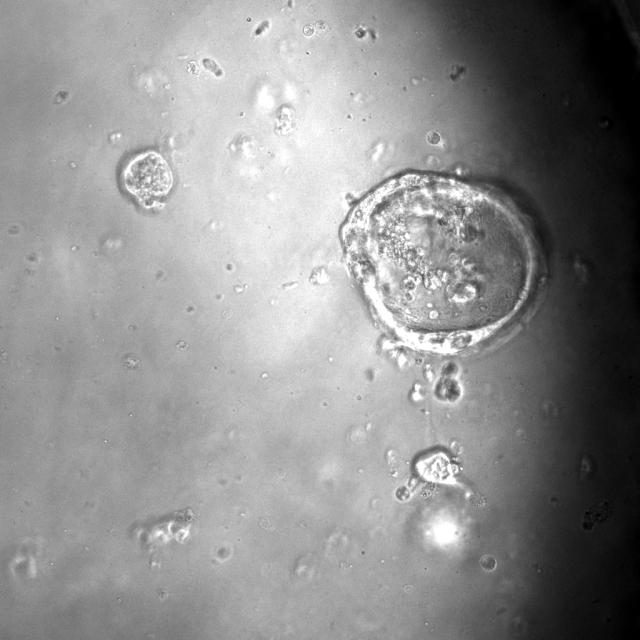organoid: (339, 171, 546, 365), (396, 445, 461, 502), (122, 150, 172, 208), (435, 361, 462, 402), (479, 554, 496, 572)
